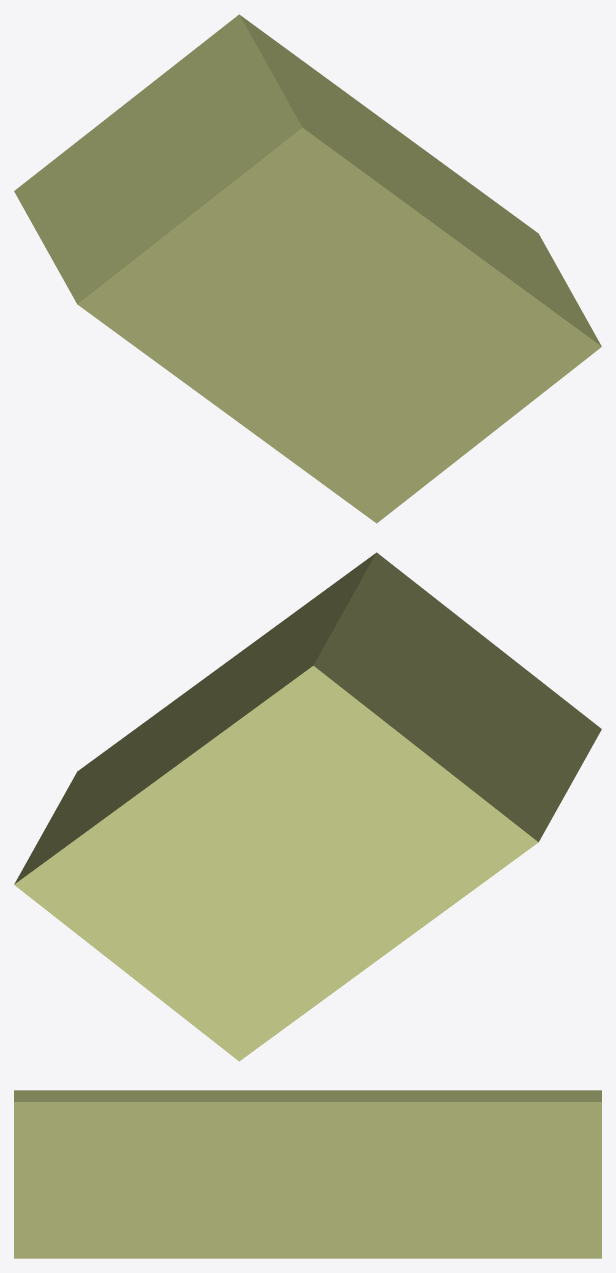
The picture shows the model from 3 angles, top to bottom: view 1: azimuth 30°, elevation 25°; view 2: azimuth 150°, elevation 25°; view 3: azimuth 270°, elevation 25°; orthographic projection.
Visible parts, largest first — view 1: 0_1_1_3_2_2_3_0_2_1_3; view 2: 0_1_1_3_2_2_3_0_2_1_3; view 3: 0_1_1_3_2_2_3_0_2_1_3.
Boxes of the visible parts, x1,y1,x2,y2 form: 0_1_1_3_2_2_3_0_2_1_3: (14,14,601,523); 0_1_1_3_2_2_3_0_2_1_3: (14,552,601,1061); 0_1_1_3_2_2_3_0_2_1_3: (14,1090,601,1258).
Size of the model in its own units: 5.01 by 4.15 by 9.
